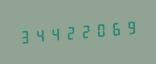four: (47, 22, 61, 45), (32, 24, 46, 46)
nine: (122, 16, 136, 38)
six: (107, 17, 121, 40)
three: (17, 25, 31, 48)
two: (62, 21, 76, 44), (77, 20, 91, 42)
zero: (92, 18, 106, 41)
